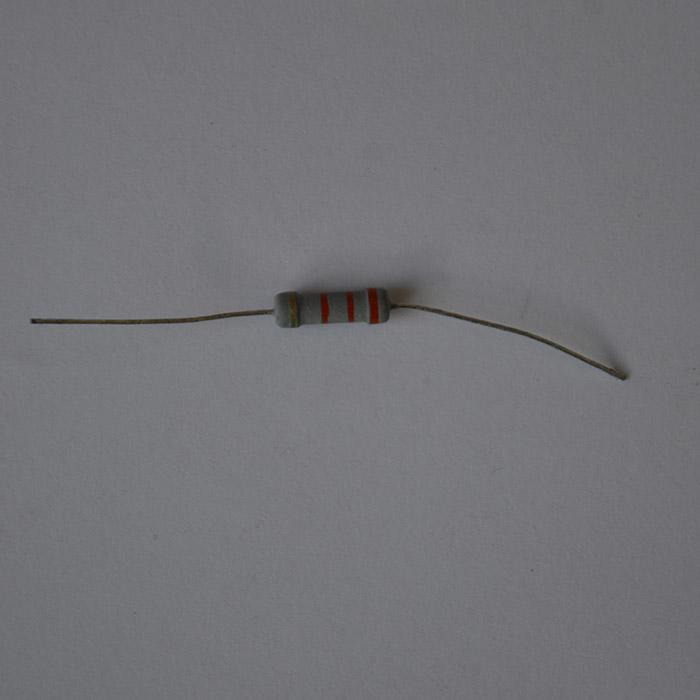resistor: (273, 285, 394, 329)
